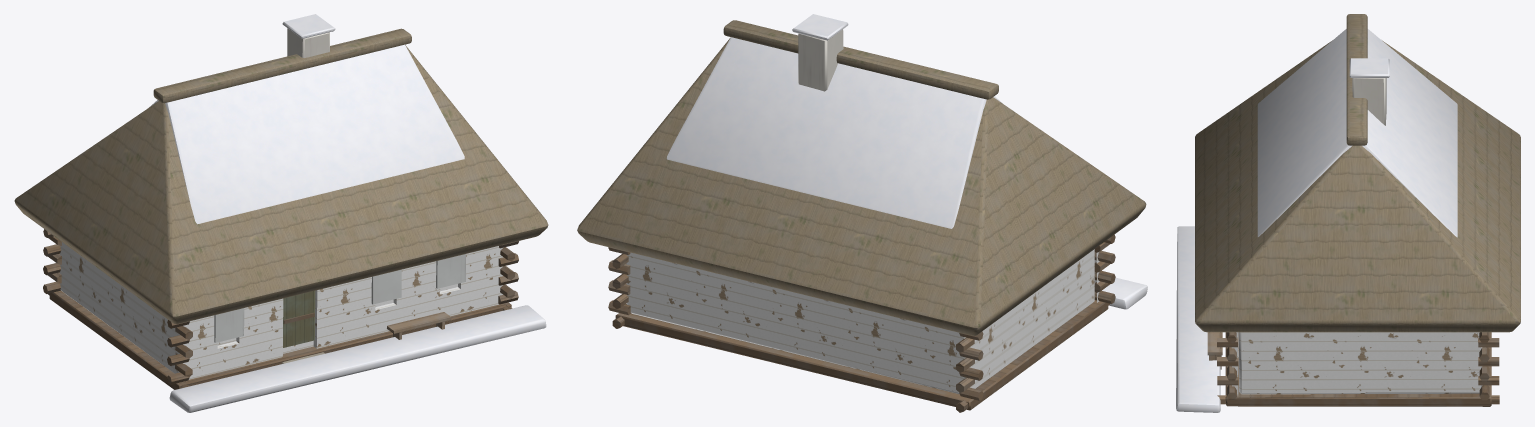
File: farm_cottage.glb
The picture shows the model from 3 angles, left to right: view 1: azimuth 30°, elevation 25°; view 2: azimuth 150°, elevation 25°; view 3: azimuth 270°, elevation 25°; orthographic projection. The views are drawn at different scales.
Parts seen in each view (by area): view 1: farm_cottage; view 2: farm_cottage; view 3: farm_cottage.
Boxes of the visible parts, bbox=[...] form: farm_cottage: bbox=[14, 14, 548, 412]; farm_cottage: bbox=[577, 14, 1147, 412]; farm_cottage: bbox=[1176, 14, 1520, 412].
Size of what is drawn, in the model's own units: 10.55 by 7.2 by 8.19.
12 materials, 12 textured.
